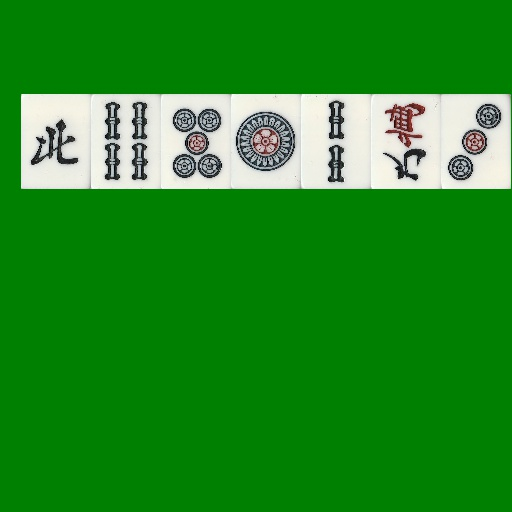1p: (231, 94, 301, 189)
2s: (301, 94, 371, 189)
3p: (441, 94, 511, 189)
4s: (91, 94, 161, 189)
5p: (161, 94, 231, 189)
9m: (371, 94, 441, 189)
north: (21, 94, 91, 189)
